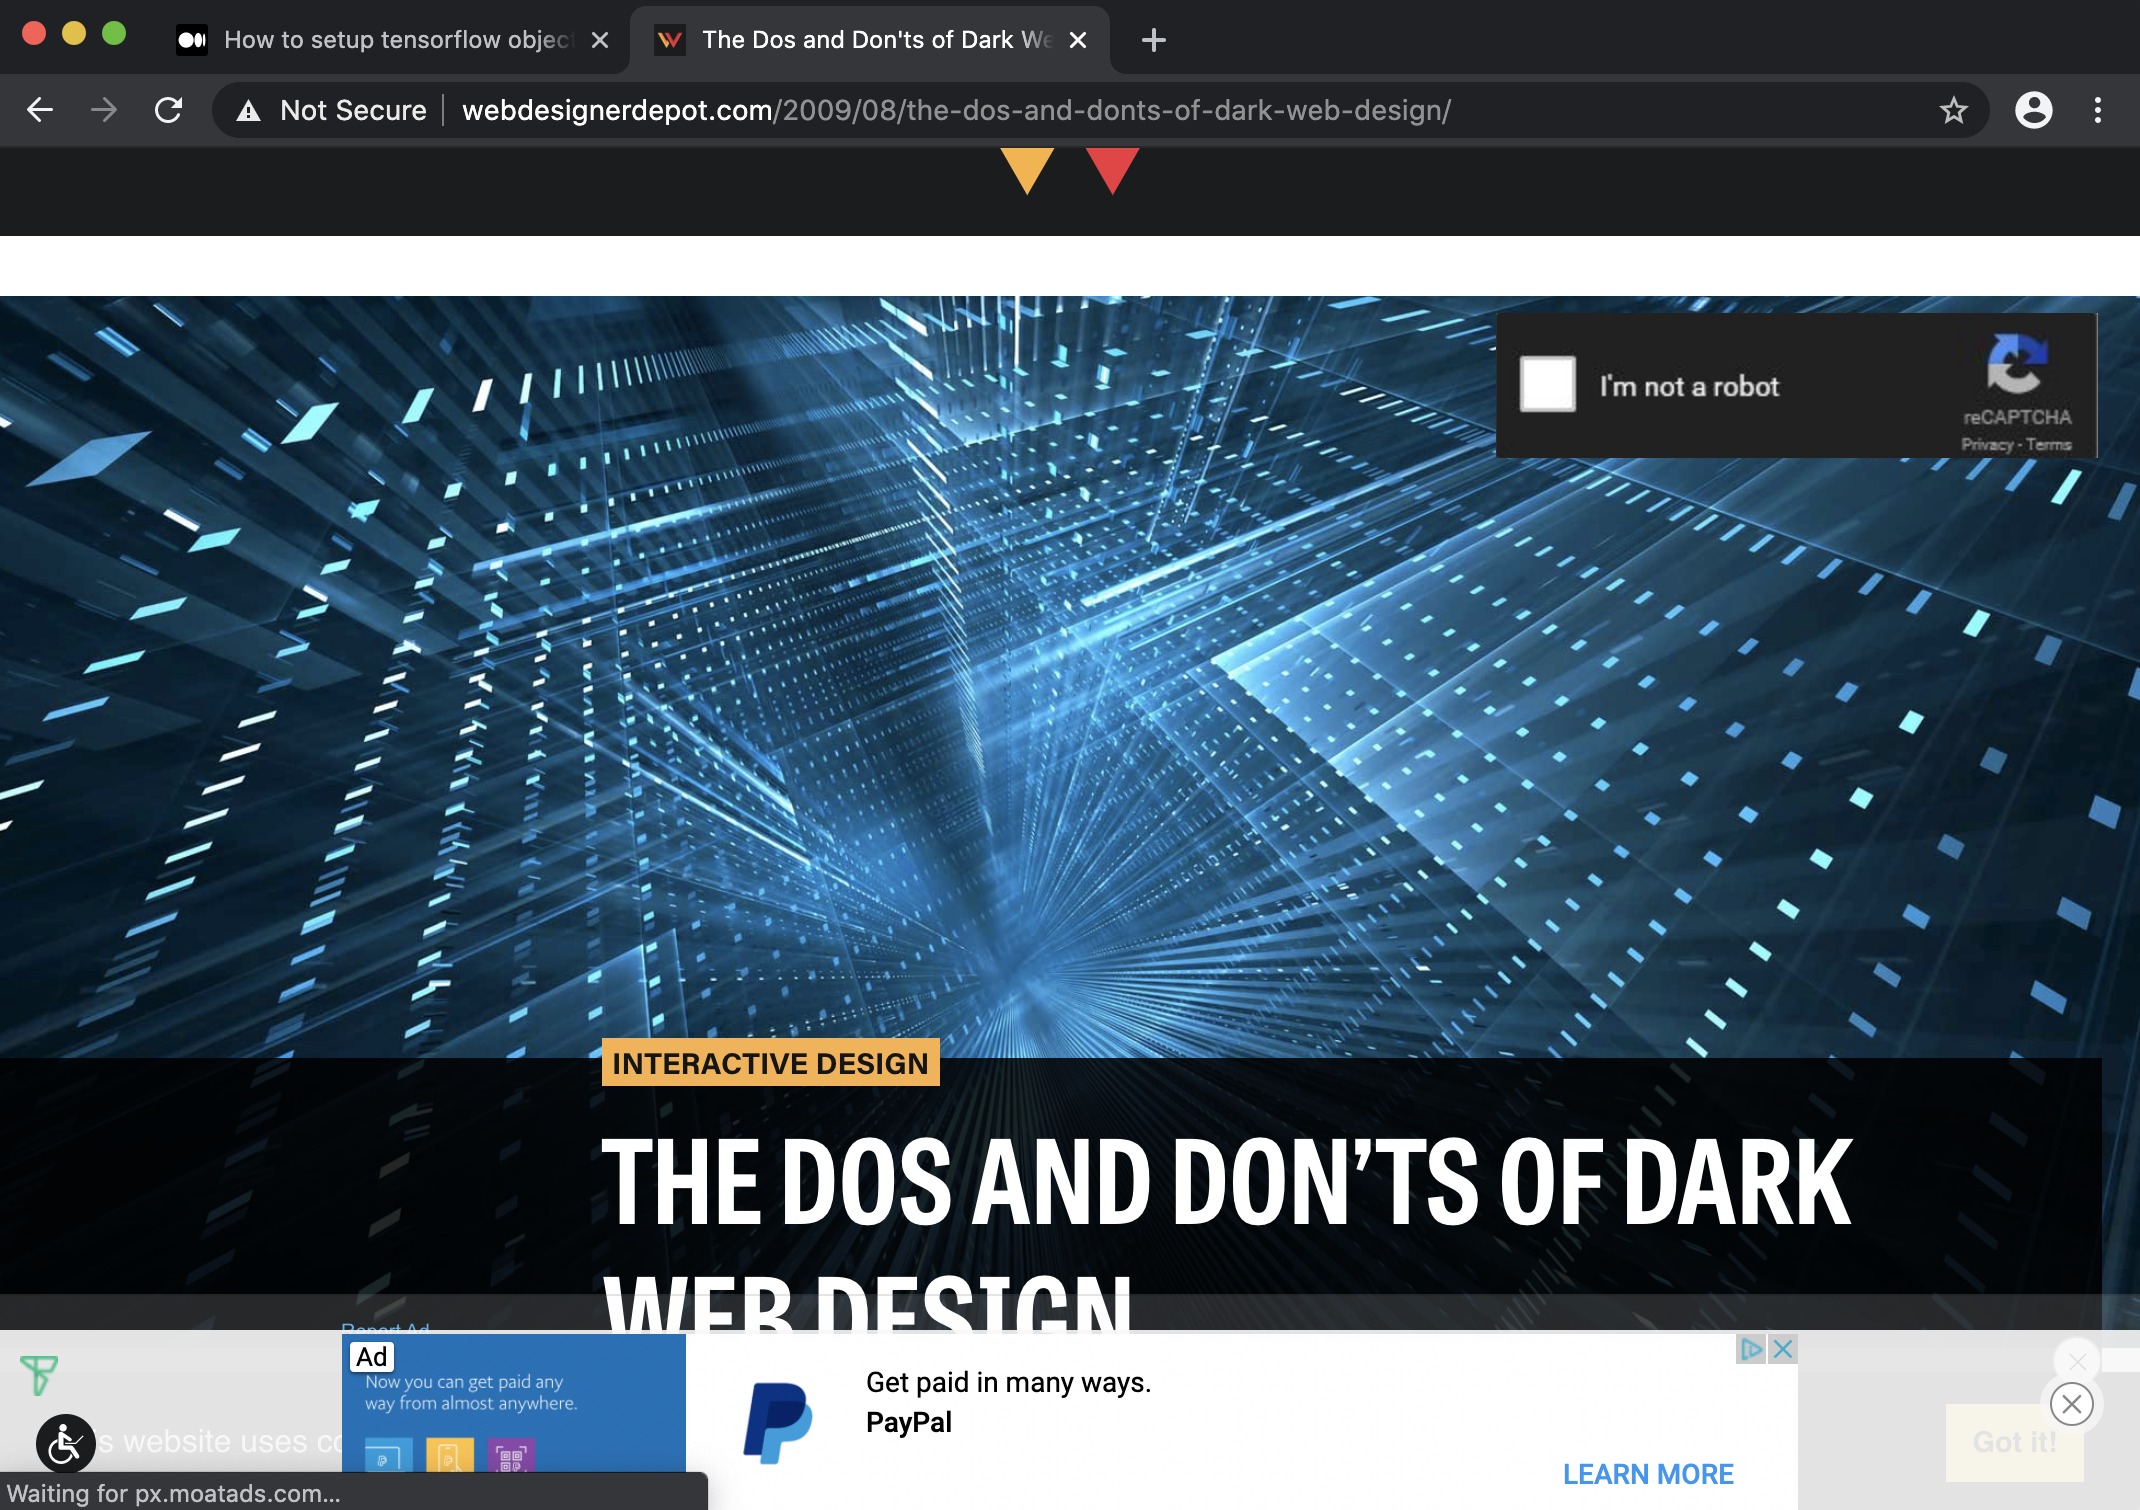captcha: (1488, 297, 2120, 471)
